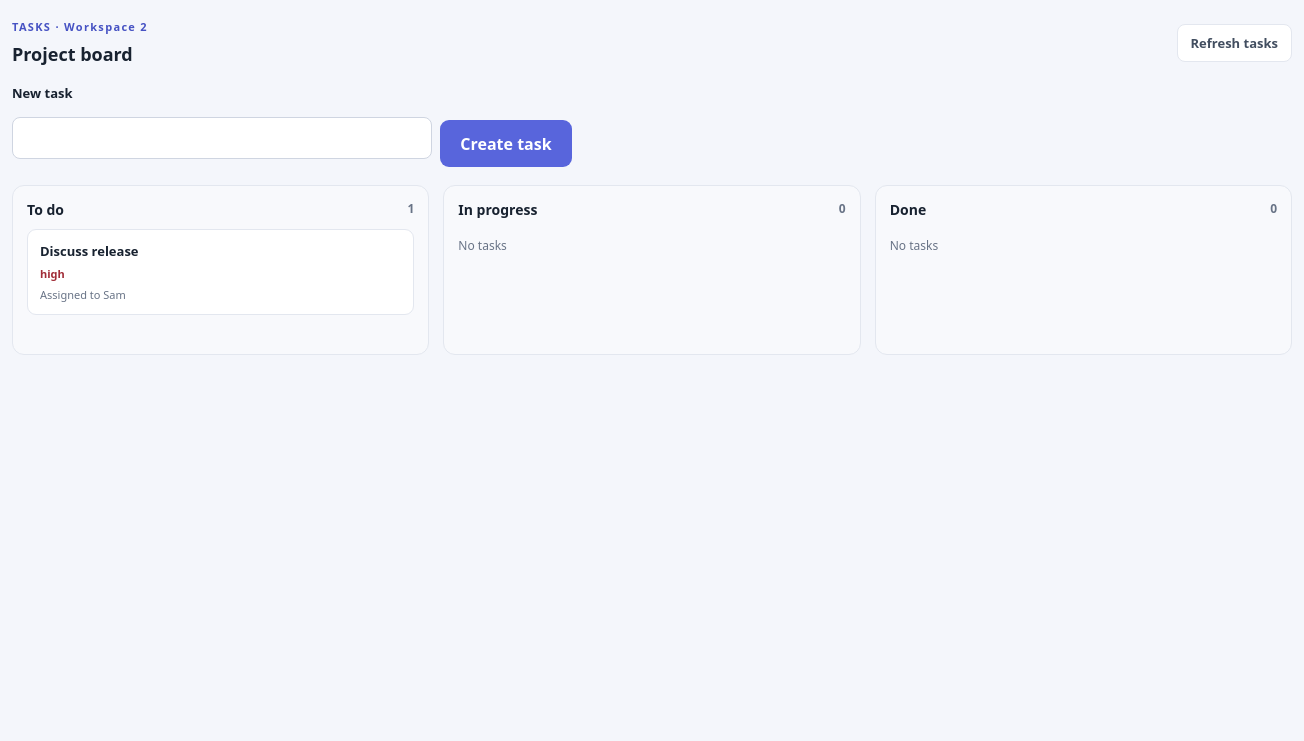
project task board › creates, edits, and deletes comments when the API grants management
Click the button "Discuss release high Assigned to Sam" at (89, 251), box [27, 229, 414, 315]
(page scrolled)
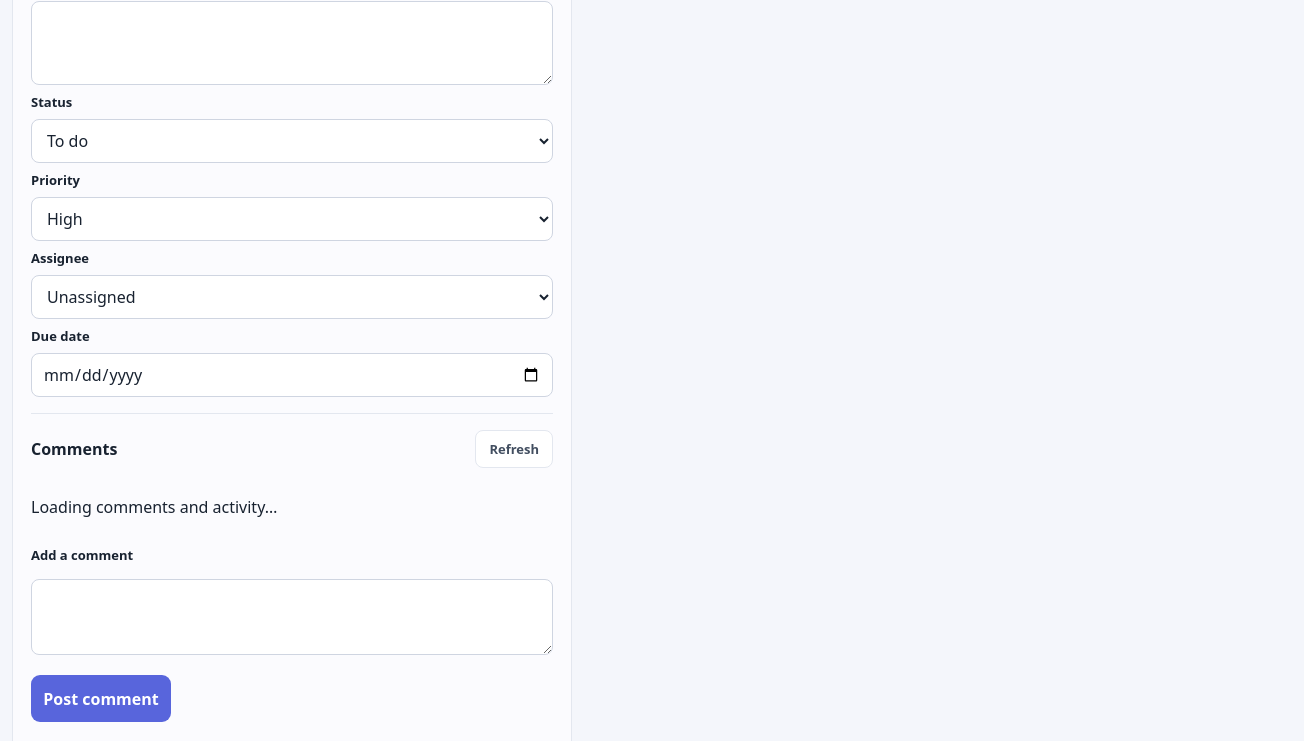
Type " Initial note " into the text box labelled "Add a comment" at (292, 617), box [31, 579, 553, 655]
(page scrolled)
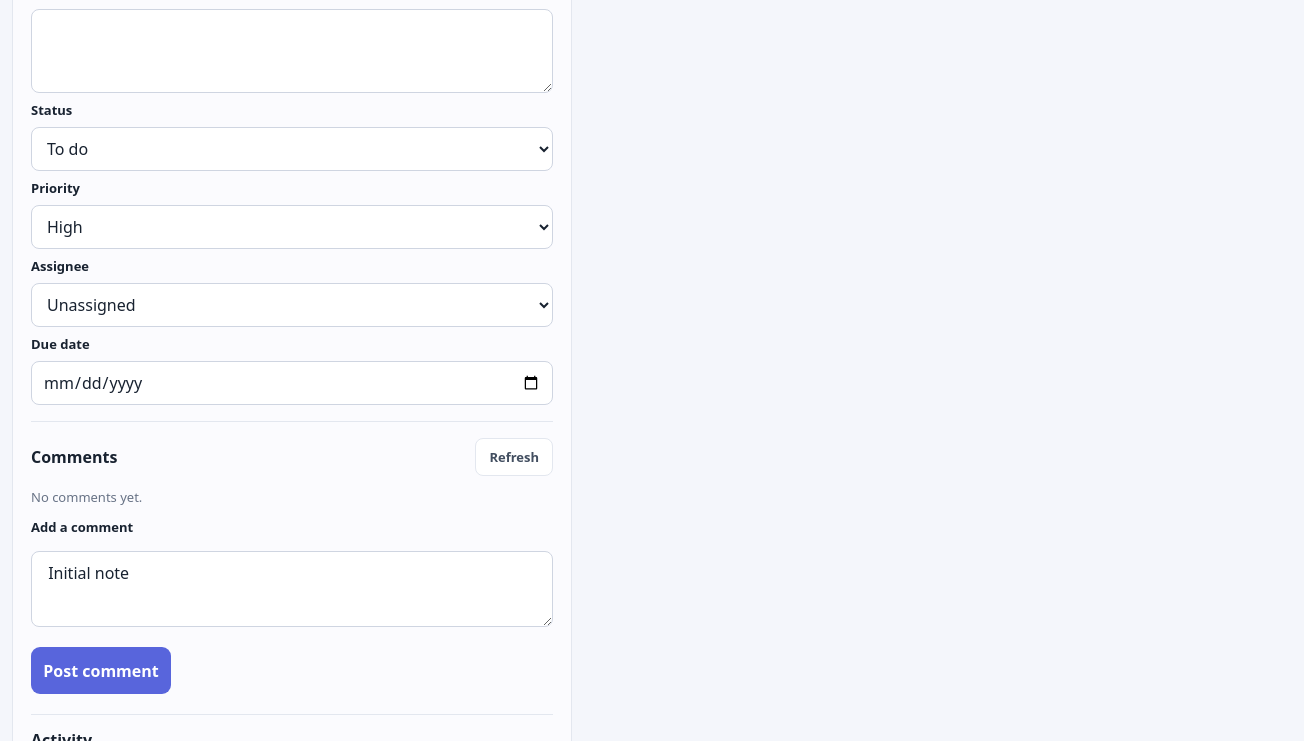
Click the button "Post comment" at (101, 670), box [31, 647, 171, 694]
(page scrolled)
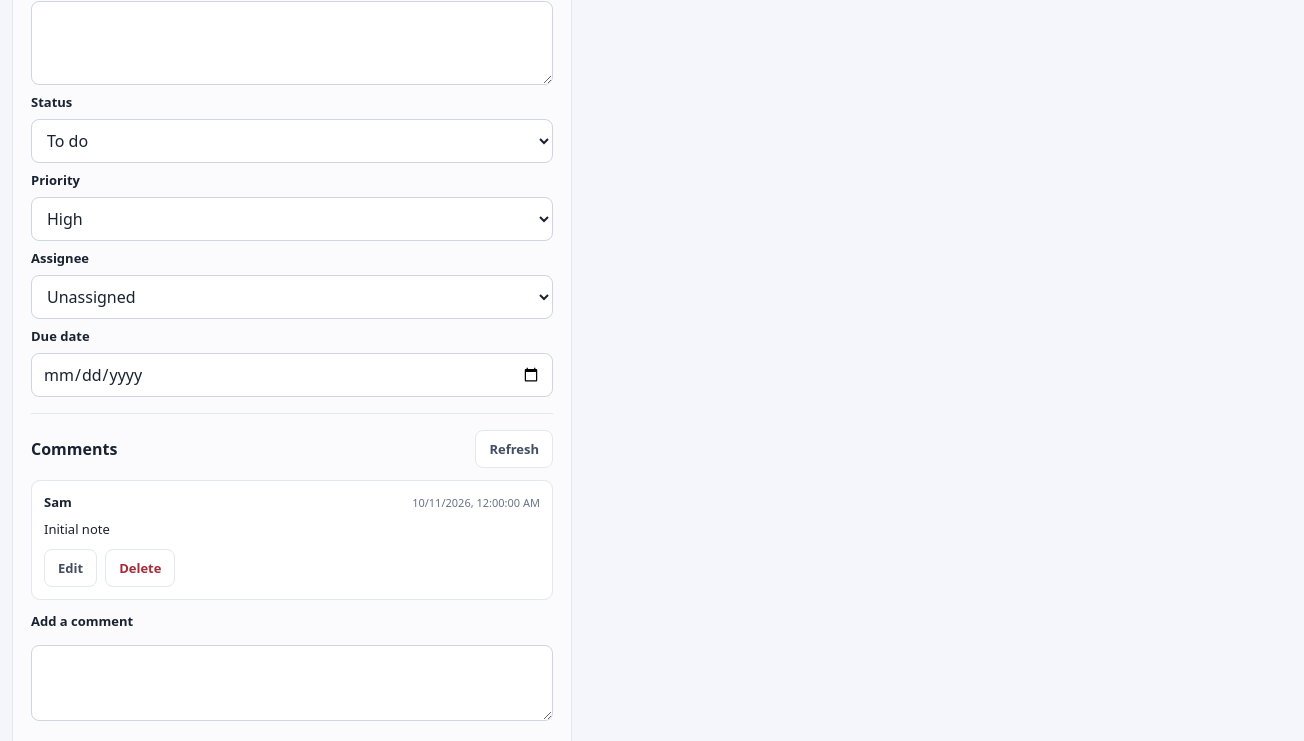
Result: the text box "Initial note" is shown at [31, 644, 553, 720]
Click the button "Edit" at (71, 568), box [44, 548, 97, 586]
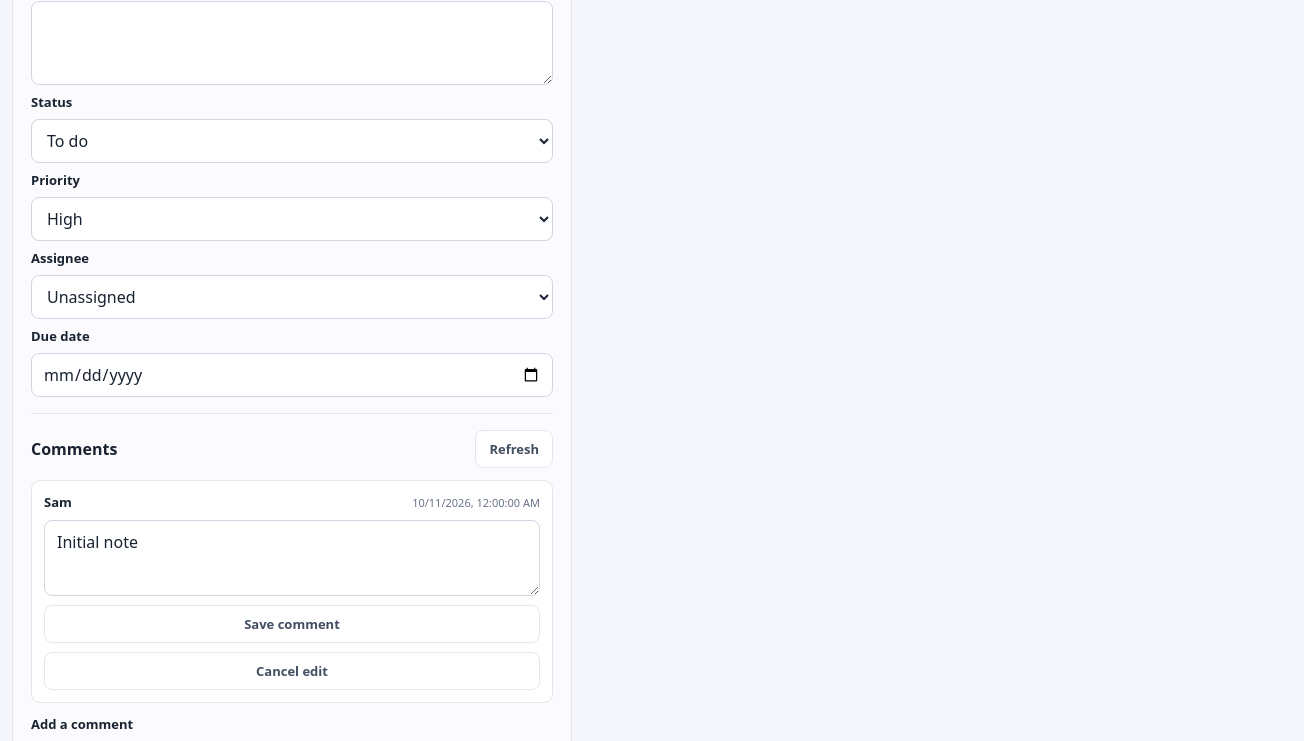
Replace the text in the text box named "Edit comment by Sam" with "Edited note" at (292, 558), box [44, 520, 540, 596]
Click the button "Save comment" at (292, 624), box [44, 605, 540, 643]
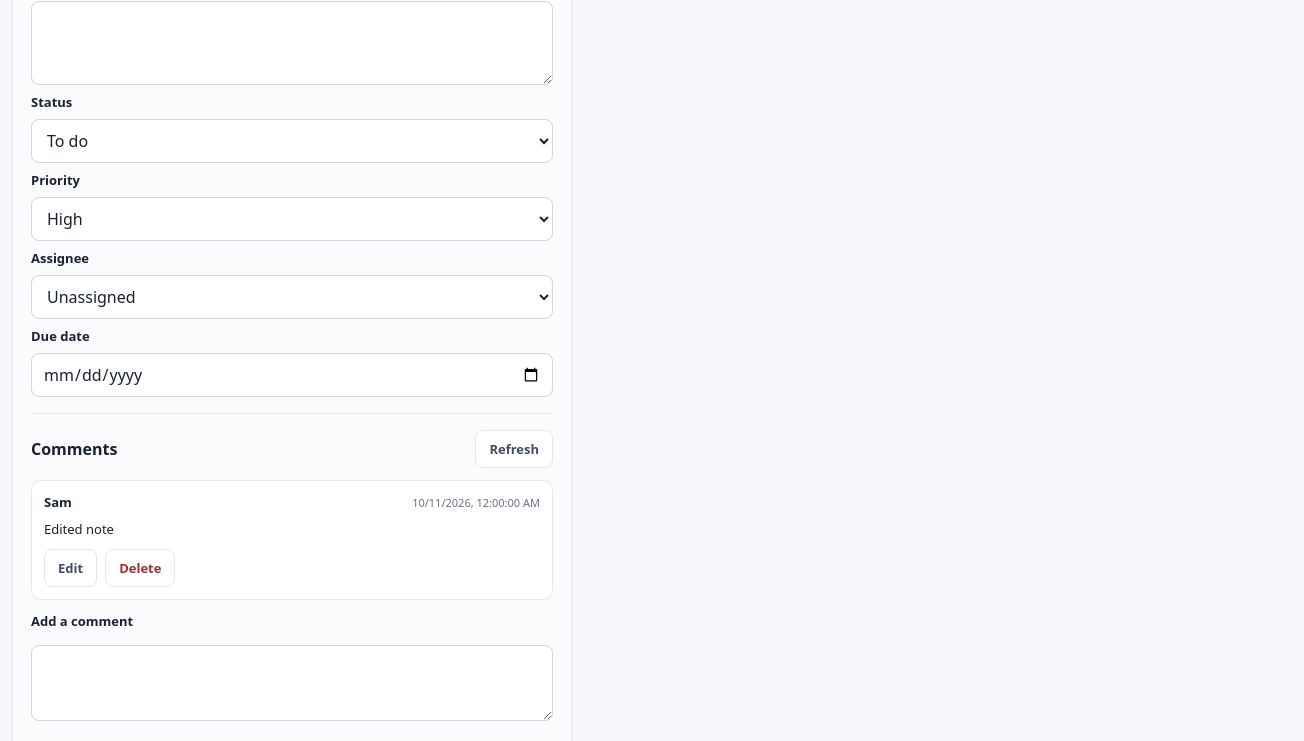
Result: the text "Edited note" is shown at [44, 520, 114, 538]
Click the button "Delete" at (140, 568), box [105, 548, 175, 586]
(page scrolled)
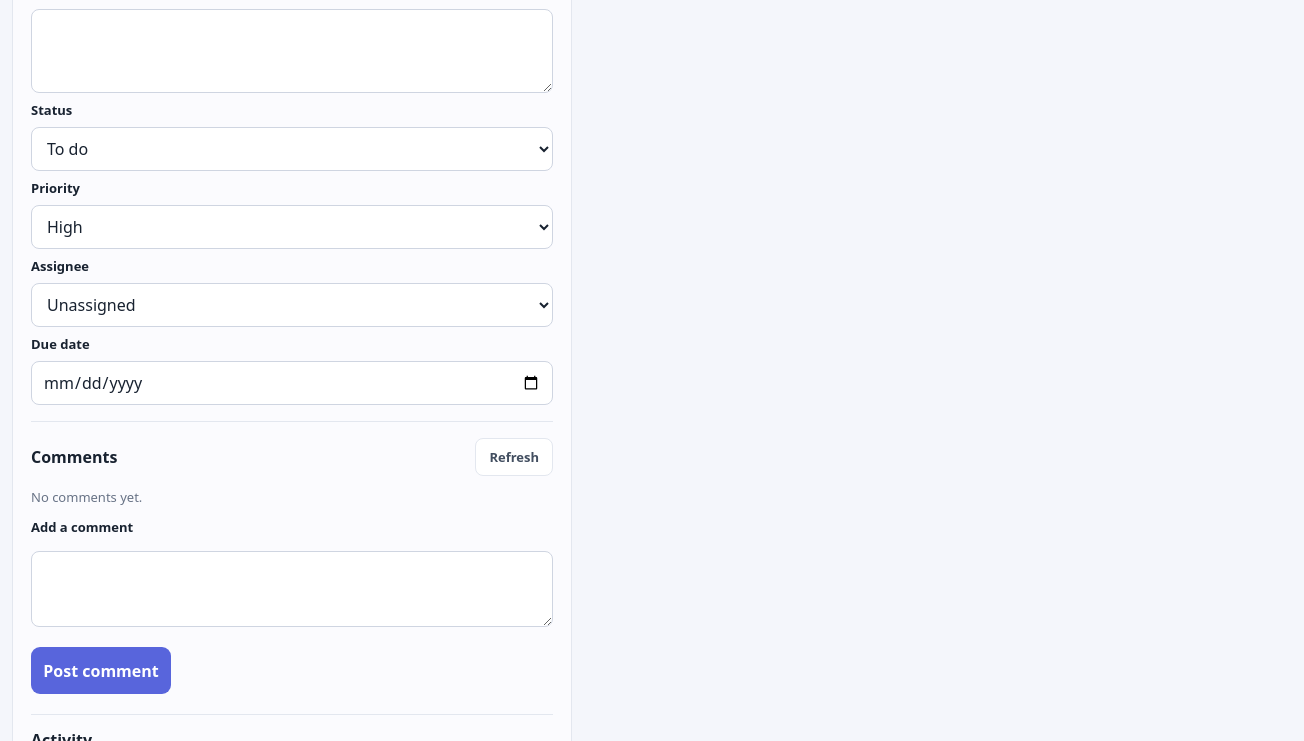
Result: the text "Edited note" is gone
